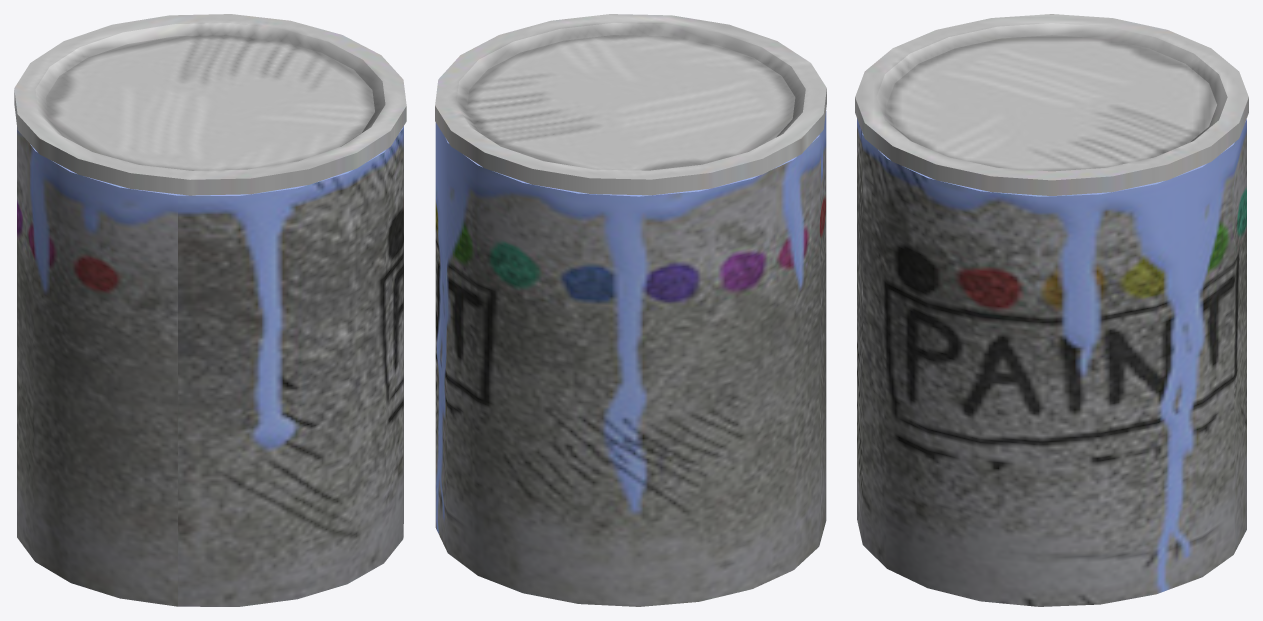
File: paint.fbx
3 views of the same model, side by side, from view 1: azimuth 30°, elevation 25°; view 2: azimuth 150°, elevation 25°; view 3: azimuth 270°, elevation 25° (orthographic).
Visible parts, largest first — view 1: pot, couvercle; view 2: pot, couvercle; view 3: pot, couvercle.
Part boxes in pixels (x1,y1,x2,y2): pot: (17, 126, 403, 606); couvercle: (14, 14, 406, 195); pot: (435, 110, 826, 606); couvercle: (435, 14, 826, 195); pot: (857, 118, 1246, 606); couvercle: (855, 14, 1248, 195).
Bounding box in the file's own units: 22.02 × 26.37 × 22.02.
